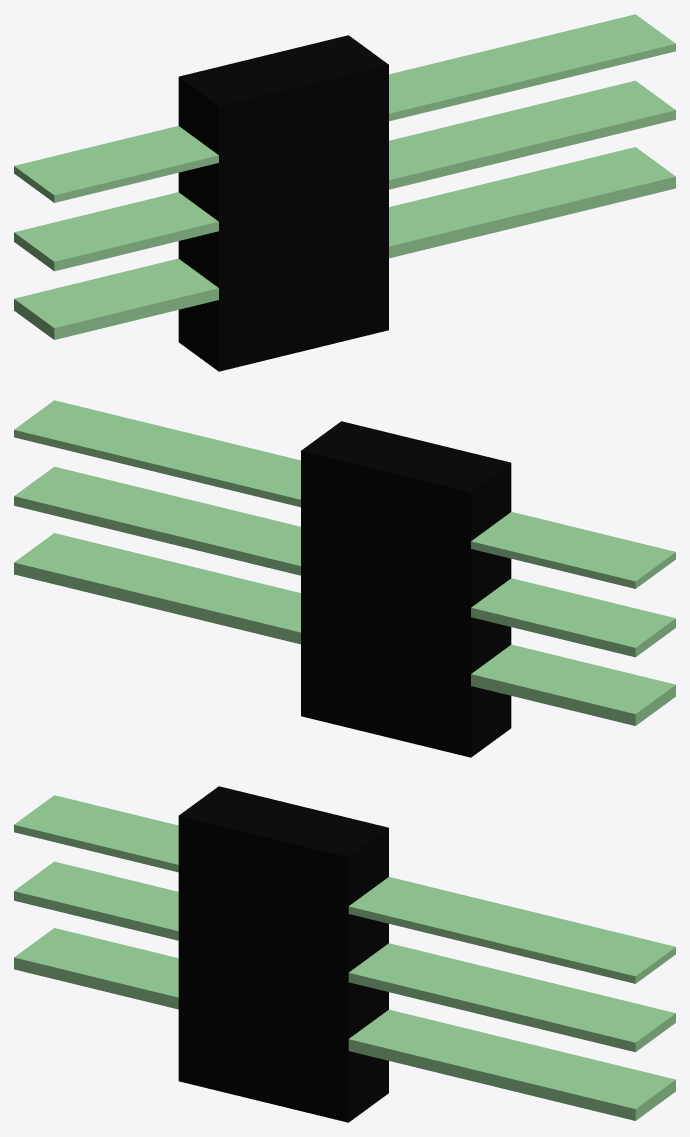
File: Office_Warna_v2.fbx_o_shelves.fbx
The picture shows the model from 3 angles, top to bottom: view 1: azimuth 30°, elevation 25°; view 2: azimuth 150°, elevation 25°; view 3: azimuth 330°, elevation 25°; orthographic projection.
Parts seen in each view (by area): view 1: o_shelves; view 2: o_shelves; view 3: o_shelves.
Part boxes in pixels (x1,y1,x2,y2): o_shelves: [14, 14, 675, 371]; o_shelves: [14, 400, 675, 757]; o_shelves: [14, 786, 675, 1122].
Size of the model in its own units: 890 by 100 by 363.
